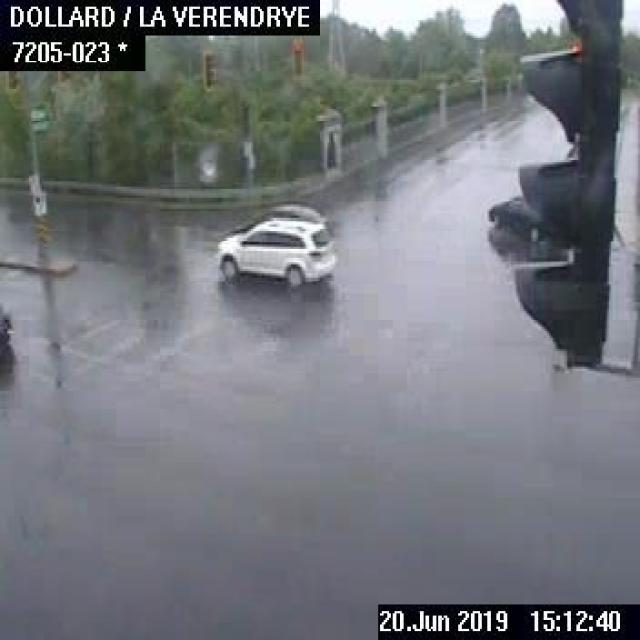vehicle: (215, 219, 336, 291), (486, 191, 558, 249), (224, 203, 326, 237), (0, 298, 11, 362)
